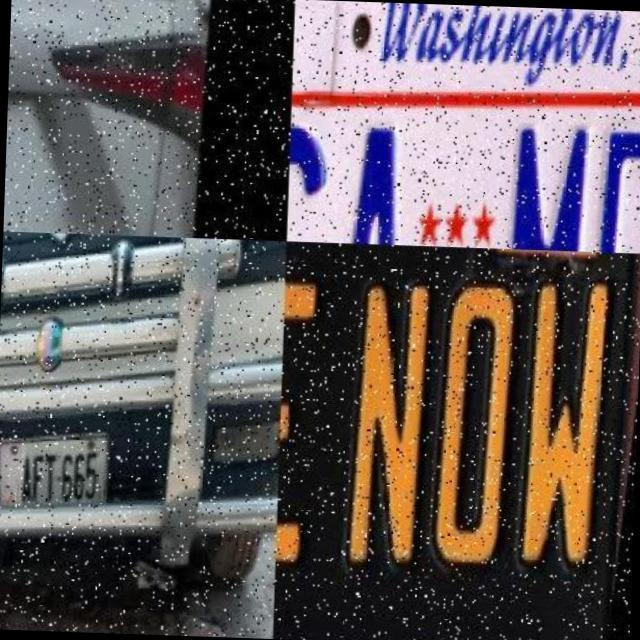license_plate: (273, 250, 633, 626), (284, 73, 640, 254), (0, 425, 120, 519), (3, 106, 51, 230)
